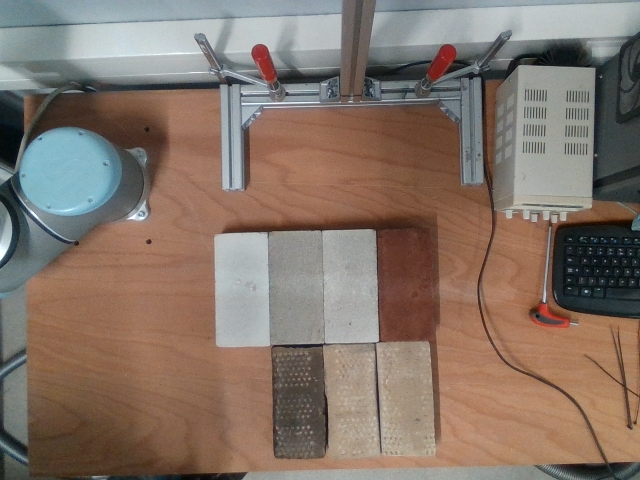brick: (376, 342, 438, 457), (377, 230, 436, 343), (268, 232, 325, 344), (325, 343, 380, 459), (323, 231, 379, 343), (270, 347, 325, 459), (215, 233, 268, 347)
